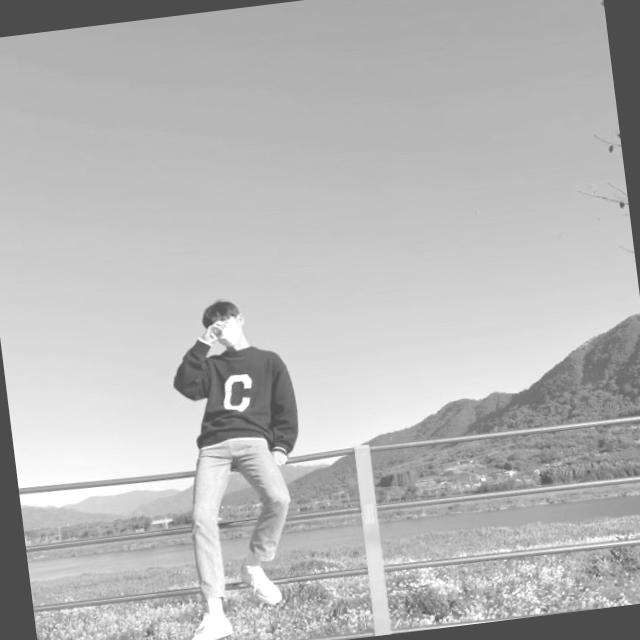denimpants: (180, 427, 298, 595)
mtm: (165, 324, 300, 463)
